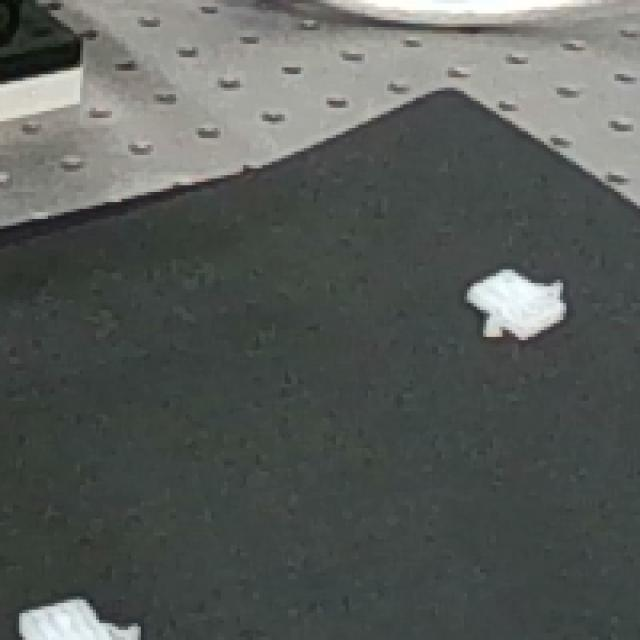pick: (444, 242, 593, 355), (0, 576, 160, 640)
